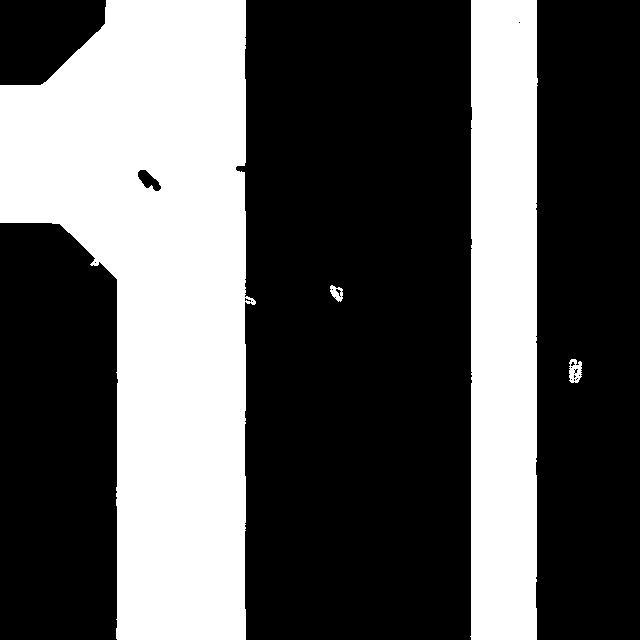copper: (128, 160, 170, 200)
mousebite: (232, 283, 265, 314), (80, 248, 108, 275)
pin-hole: (559, 349, 591, 392), (320, 275, 352, 311)
spur: (226, 156, 261, 182)
